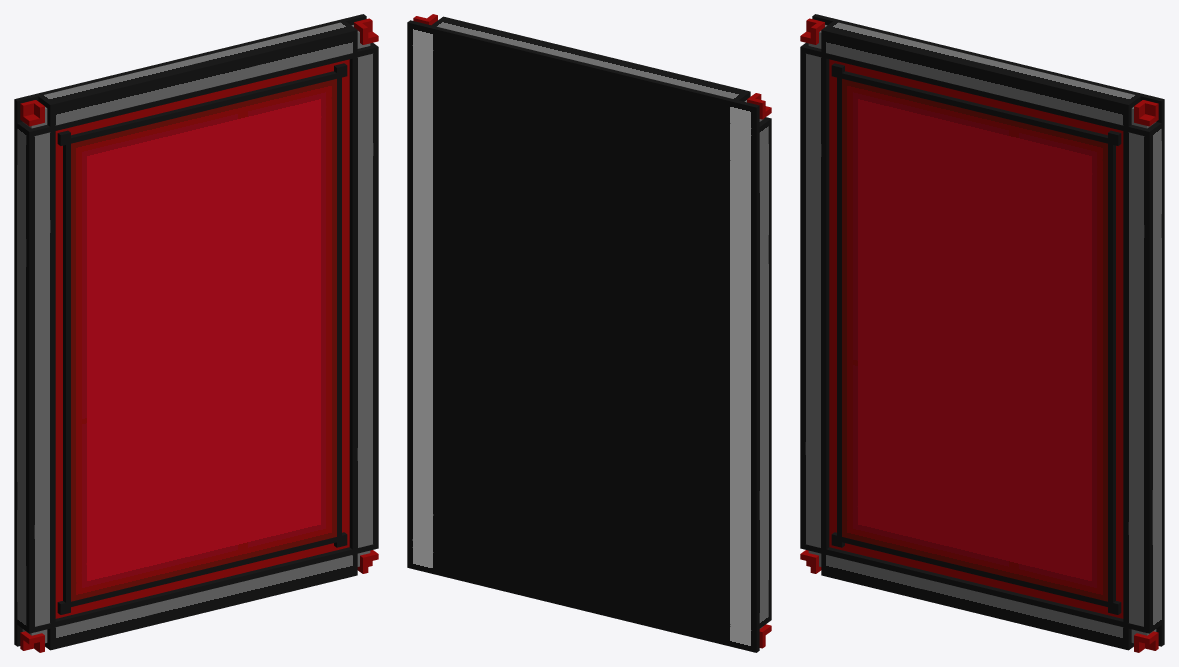
File: picture_frame_2.glb
3 views of the same model, side by side, from view 1: azimuth 30°, elevation 25°; view 2: azimuth 150°, elevation 25°; view 3: azimuth 330°, elevation 25° (orthographic).
Parts seen in each view (by area): view 1: Object_2; view 2: Object_2; view 3: Object_2.
Boxes of the visible parts, bbox=[...] form: Object_2: bbox=[14, 14, 378, 652]; Object_2: bbox=[407, 14, 771, 652]; Object_2: bbox=[800, 14, 1164, 652].
Size of the model in its own units: 67 by 100 by 5.
1 material, 1 textured.
